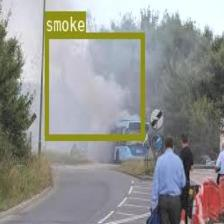smoke: (44, 32, 144, 140)
